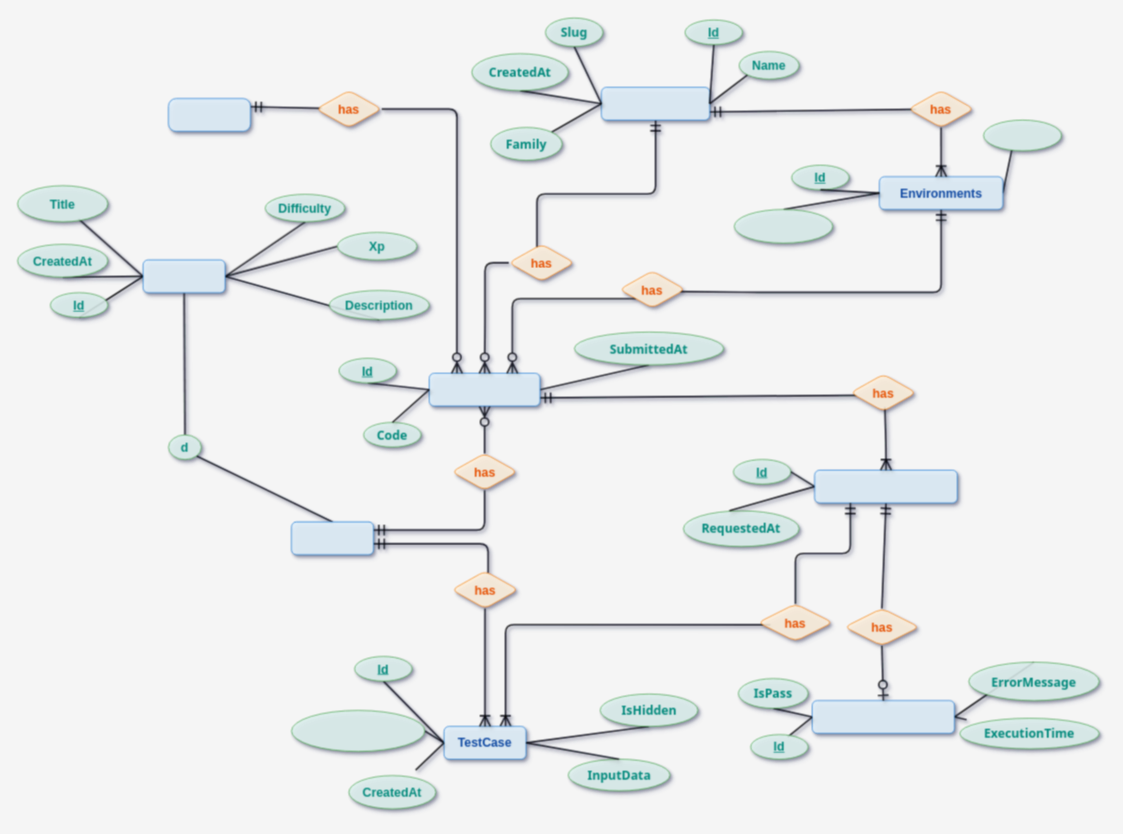
This 1123x834 diagram has some shape labels left out. Here are the shapes that lost their labels. From the top down, the centre of each, then its label:
[209,115]: User
[656,104]: Prolanguage
[1022,136]: Version
[784,227]: Language
[184,277]: Exercises
[485,390]: Submissions
[886,487]: ExecutRequests
[332,539]: Coding
[358,731]: ExpectedOutput
[883,718]: ExecutionResults
